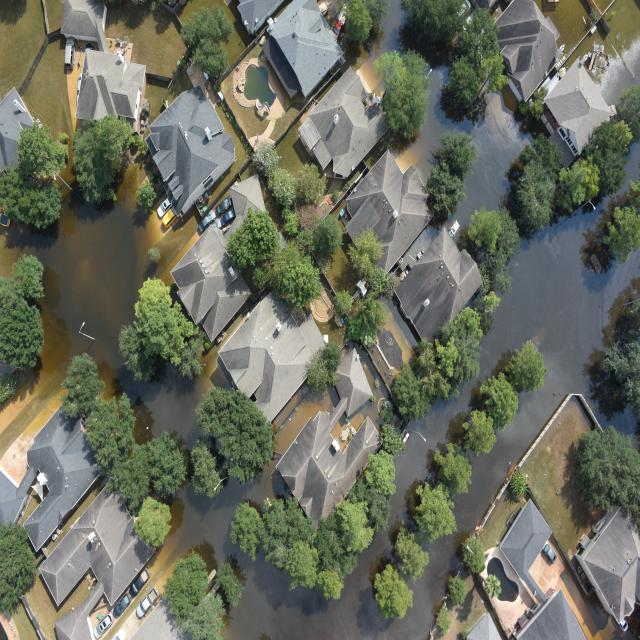fire: (0, 164, 217, 456), (414, 213, 612, 530), (395, 66, 532, 210), (229, 538, 391, 638), (154, 463, 282, 579), (389, 539, 452, 635), (389, 435, 429, 527), (386, 1, 401, 47)
